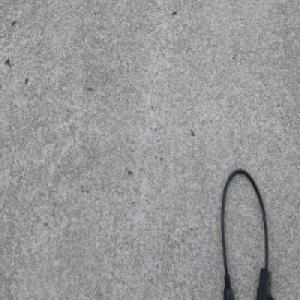Wire: (218, 167, 275, 300)
